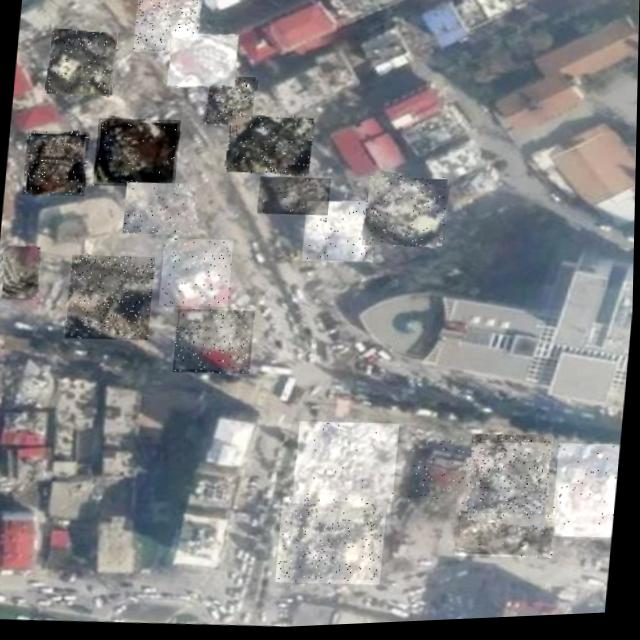Rubble: (277, 495, 390, 590), (294, 419, 401, 508), (467, 433, 555, 533), (66, 251, 157, 343), (362, 172, 451, 253), (553, 445, 622, 544), (94, 115, 181, 191), (226, 112, 315, 180), (174, 306, 256, 377), (160, 236, 236, 310), (457, 512, 558, 566), (46, 26, 119, 99), (303, 199, 379, 267), (410, 438, 477, 509), (23, 127, 90, 198), (167, 31, 240, 91), (123, 179, 197, 238), (133, 0, 202, 55), (258, 175, 332, 219), (205, 74, 258, 129), (1, 243, 42, 300)
